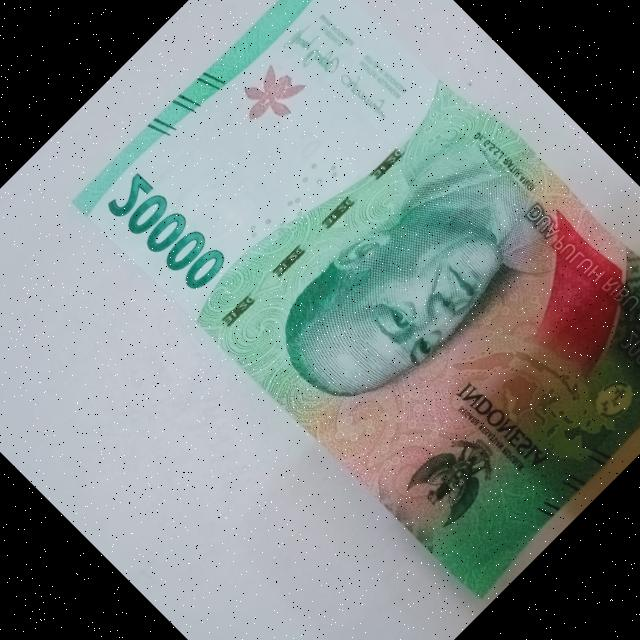20K: (53, 0, 640, 616)
